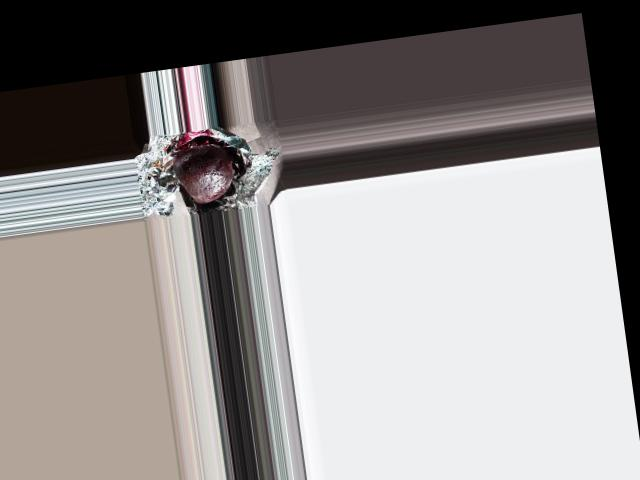beet: (170, 143, 237, 206)
